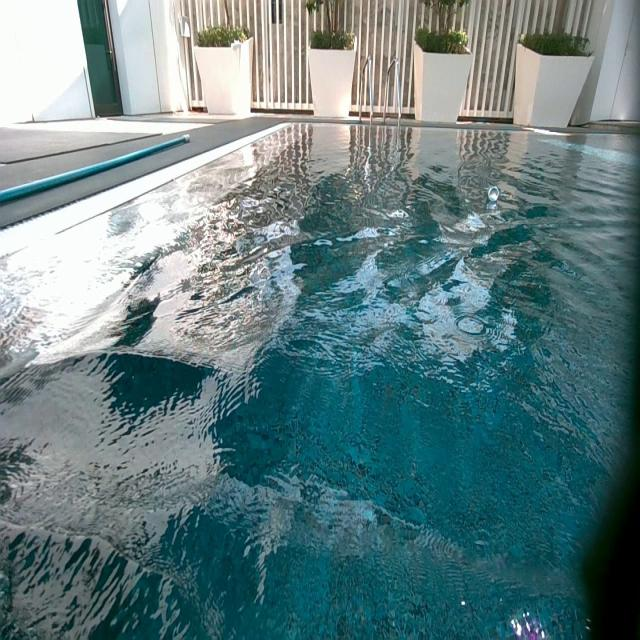Cans: (487, 185, 500, 201)
